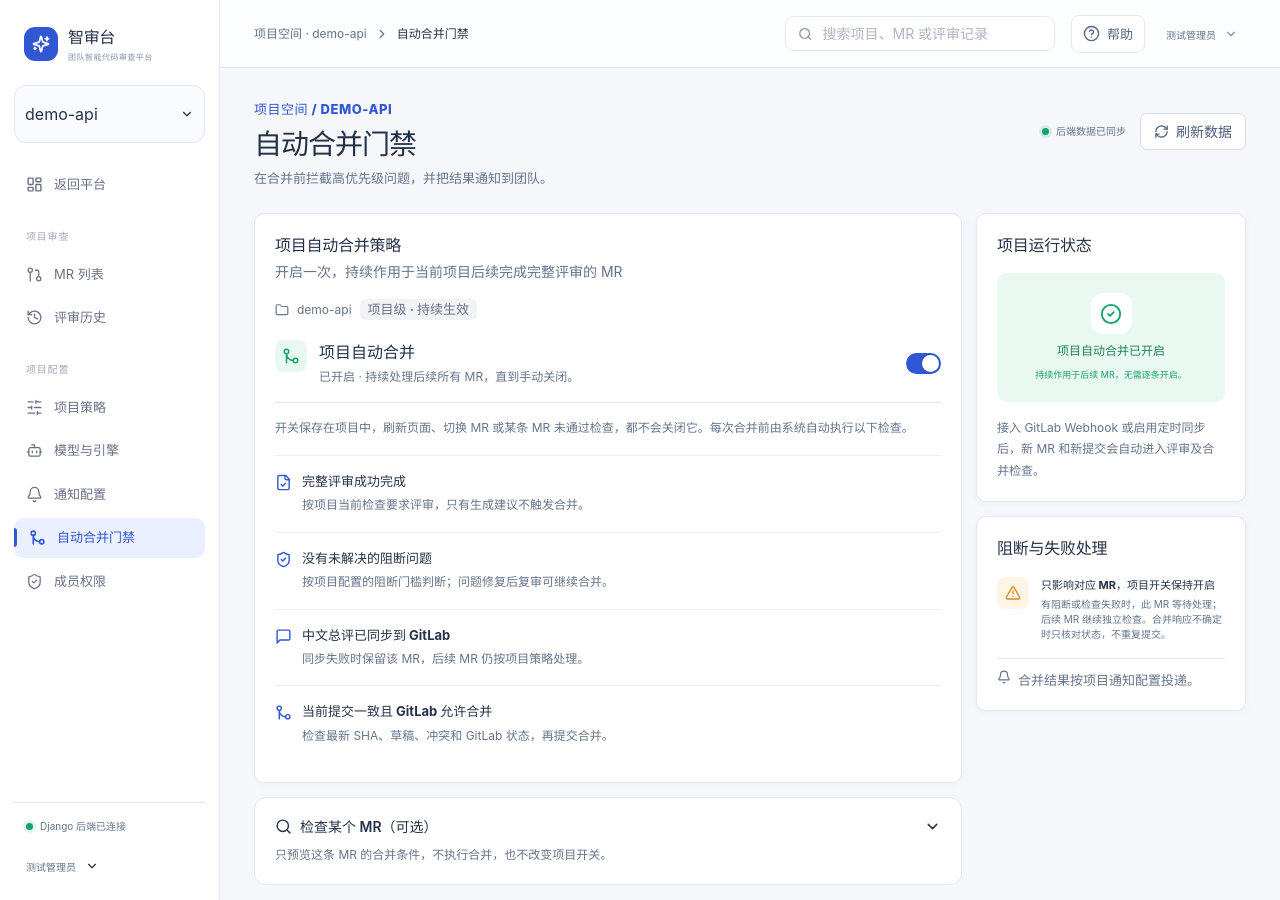
retains the saved enabled state when closing fails
Step 1. Click the switch named "项目自动合并" → (924, 363), box left=906, top=353, right=941, bottom=374
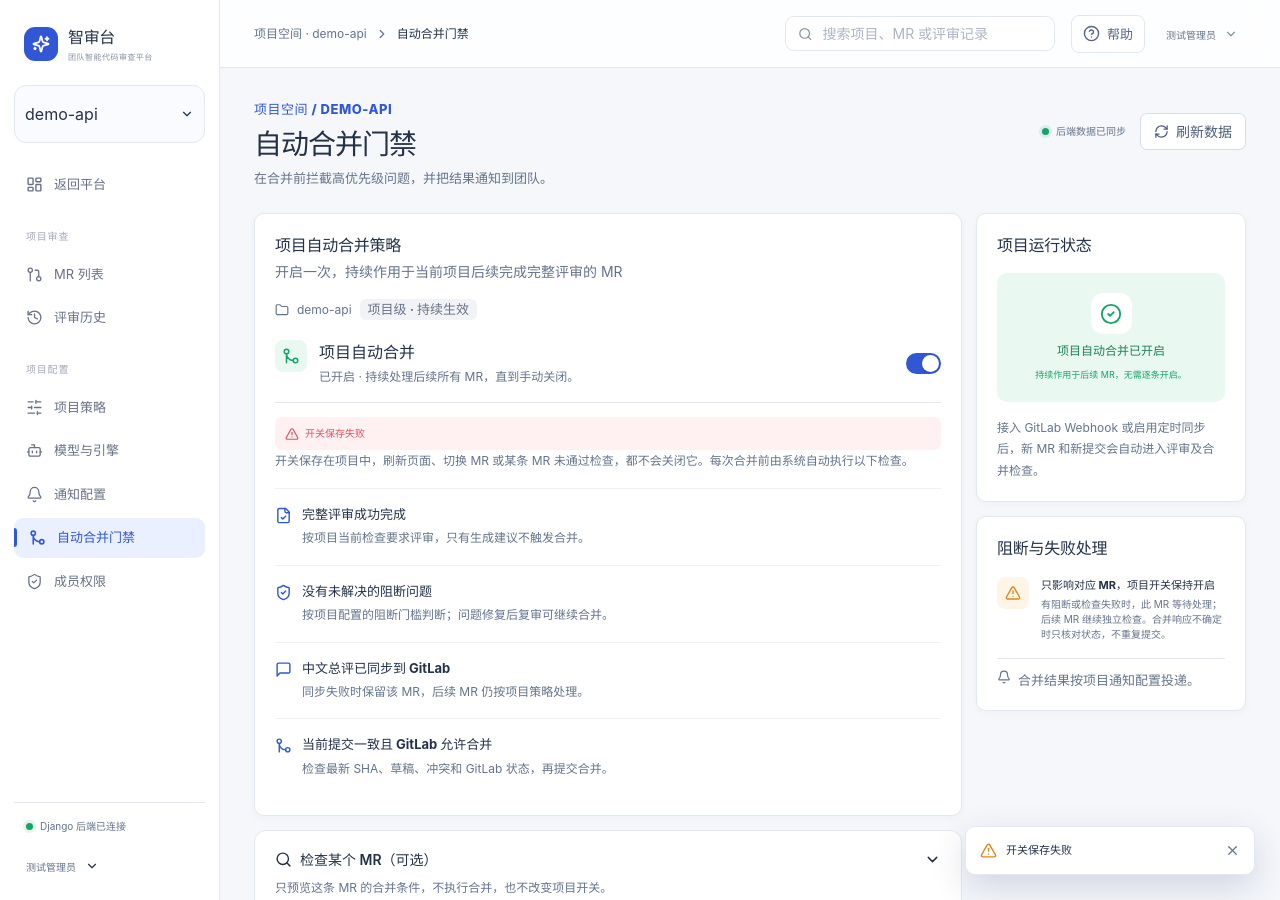
Result: the message "开关保存失败" below "已开启 · 持续处理后续所有 MR，直到手动关闭。" is shown at left=305, top=427, right=365, bottom=439
